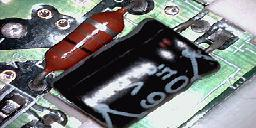Electrolytic Capacitor: (109, 21, 206, 128)
